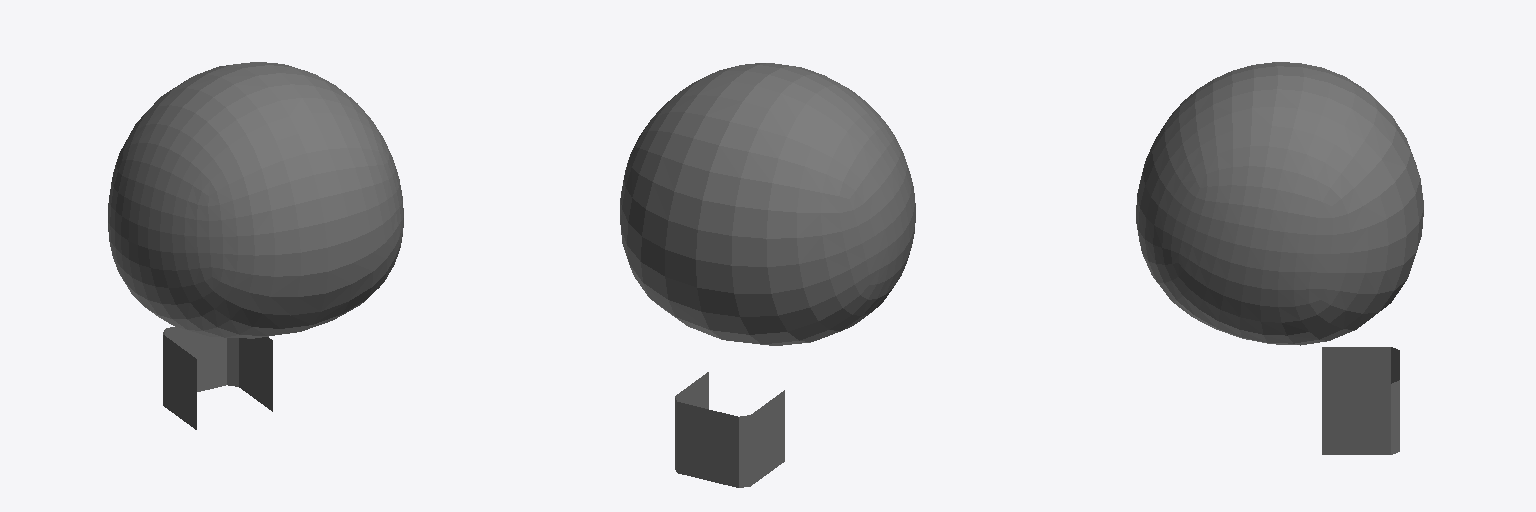
File: Glass.obj
3 renders of one model, left to right at view 1: azimuth 30°, elevation 25°; view 2: azimuth 150°, elevation 25°; view 3: azimuth 270°, elevation 25°, orthographic.
Parts seen in each view (by area): view 1: polySurface43; view 2: polySurface43; view 3: polySurface43.
Boxes of the visible parts, x1,y1,x2,y2 form: polySurface43: [108, 62, 403, 429]; polySurface43: [620, 63, 915, 487]; polySurface43: [1136, 62, 1423, 454].
Bounding box in the file's own units: 1.37 × 1.84 × 1.34.